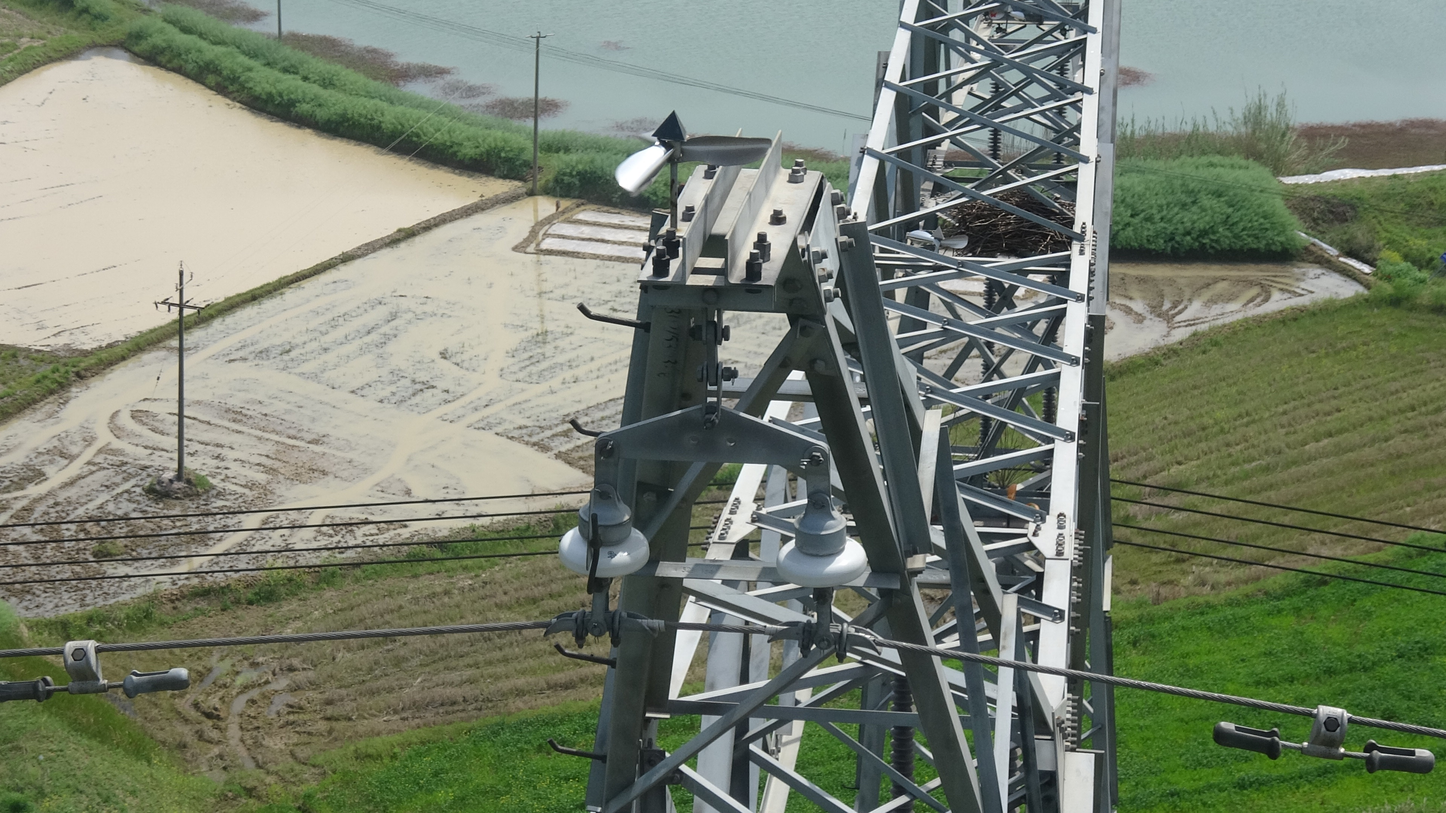damper: (1207, 696, 1438, 781), (0, 631, 197, 710)
